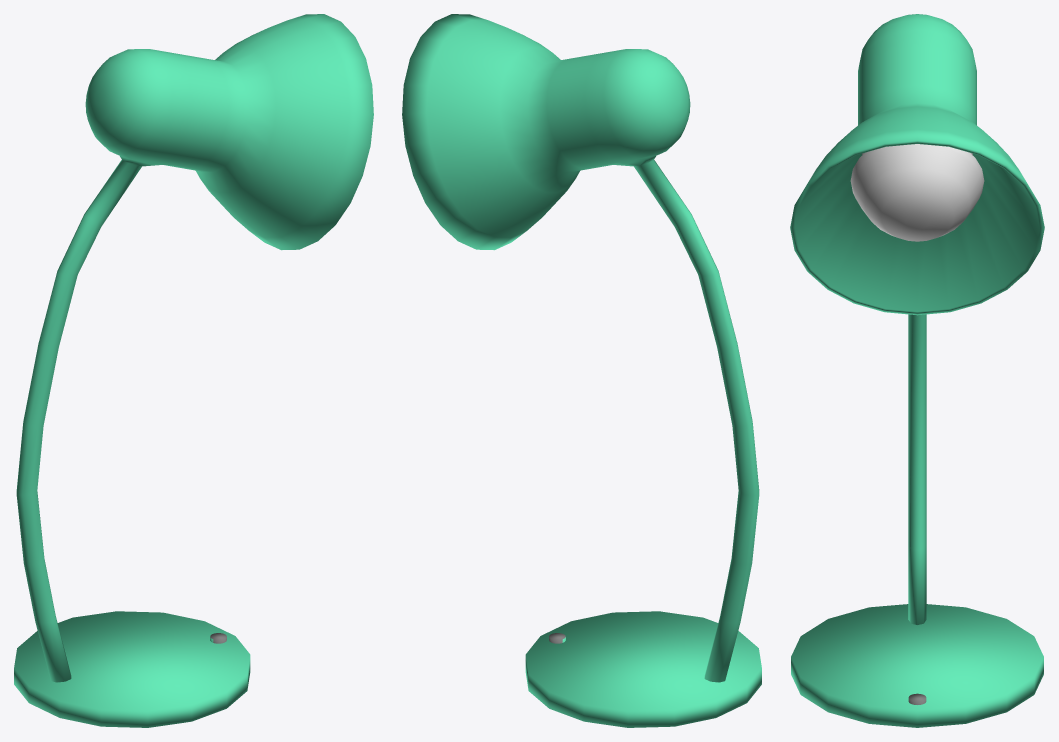
The model's file is Stand.fbx.
The picture shows the model from 3 angles, left to right: view 1: azimuth 30°, elevation 25°; view 2: azimuth 150°, elevation 25°; view 3: azimuth 270°, elevation 25°; orthographic projection. The views are drawn at different scales.
Parts seen in each view (by area): view 1: 실린더; view 2: 실린더; view 3: 실린더.
Part boxes in pixels (<box>): 실린더: <box>14,14,373,727</box>; 실린더: <box>402,14,761,727</box>; 실린더: <box>790,14,1044,727</box>.
Size of the model in its own units: 3.34 by 6.13 by 2.14.
